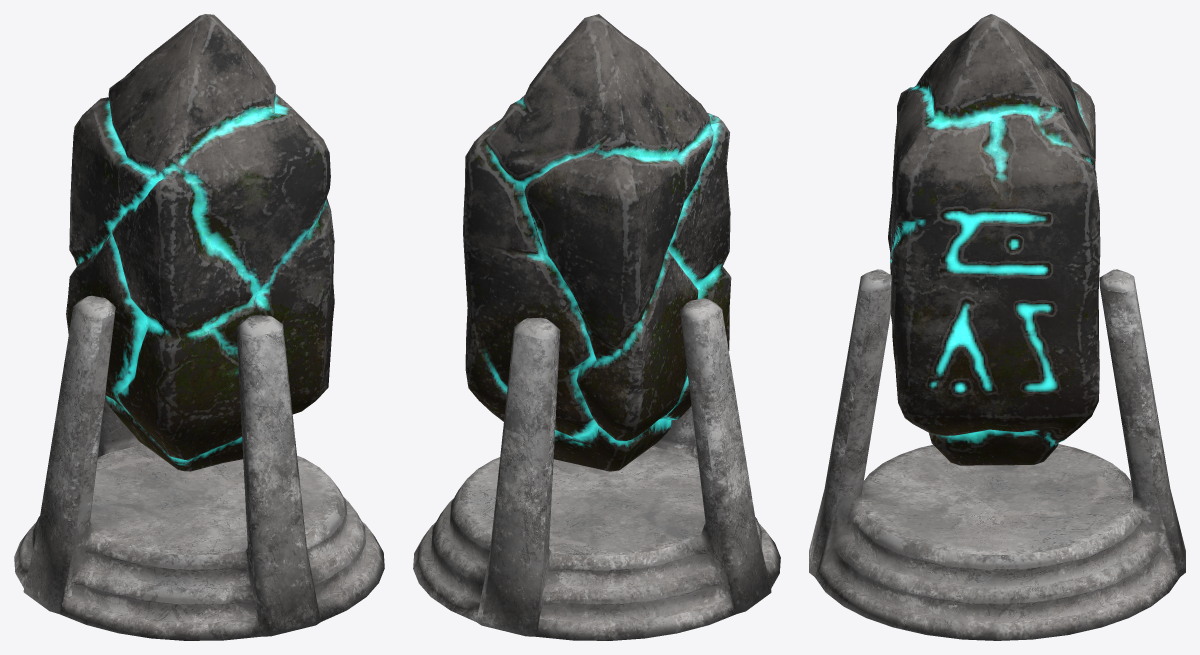
File: totem.glb
3 renders of one model, left to right at view 1: azimuth 30°, elevation 25°; view 2: azimuth 150°, elevation 25°; view 3: azimuth 270°, elevation 25°, orthographic.
Parts seen in each view (by area): view 1: obelisk_1_Low, obelisk_stand_Low; view 2: obelisk_1_Low, obelisk_stand_Low; view 3: obelisk_1_Low, obelisk_stand_Low.
Part boxes in pixels (left/top/right/bottom): obelisk_1_Low: left=66, top=14, right=334, bottom=471; obelisk_stand_Low: left=14, top=295, right=384, bottom=640; obelisk_1_Low: left=463, top=14, right=731, bottom=471; obelisk_stand_Low: left=413, top=298, right=780, bottom=640; obelisk_1_Low: left=888, top=14, right=1100, bottom=465; obelisk_stand_Low: left=809, top=269, right=1185, bottom=640.
Bounding box in the file's own units: 0.3253 × 0.5267 × 0.3273.
1 material, 1 textured.
